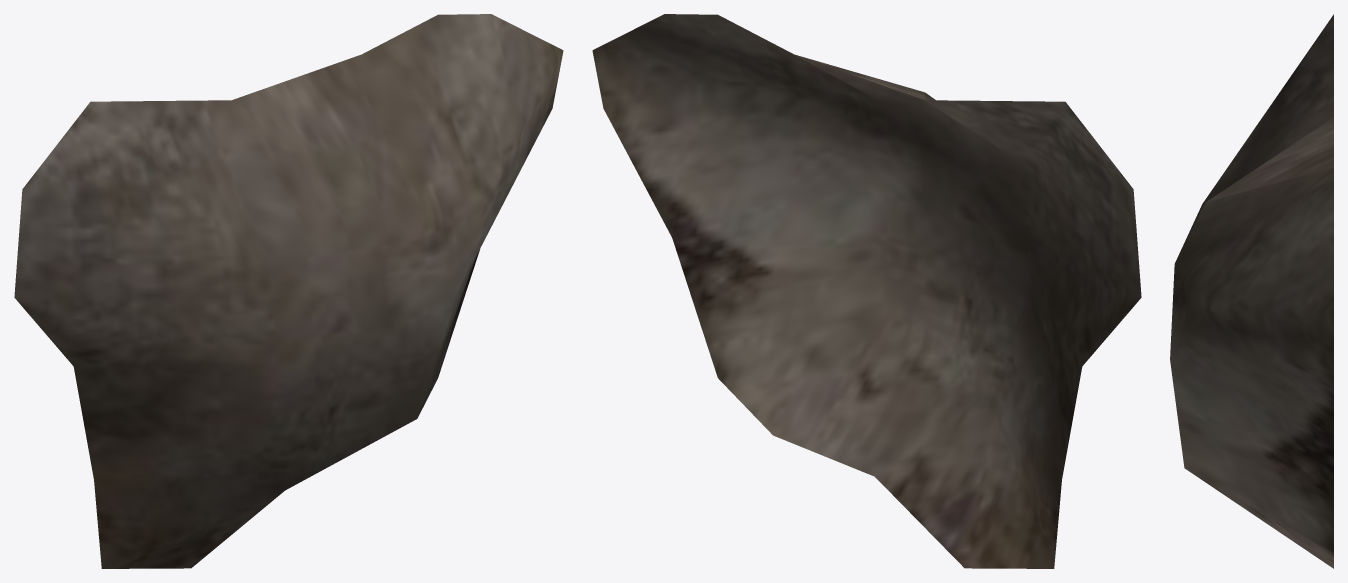
The model's file is prop_toujane_roadrock3.glb.
3 renders of one model, left to right at view 1: azimuth 30°, elevation 25°; view 2: azimuth 150°, elevation 25°; view 3: azimuth 270°, elevation 25°, orthographic.
Size of the model in its own units: 20.08 by 17.24 by 5.12.
1 material, 1 textured.
